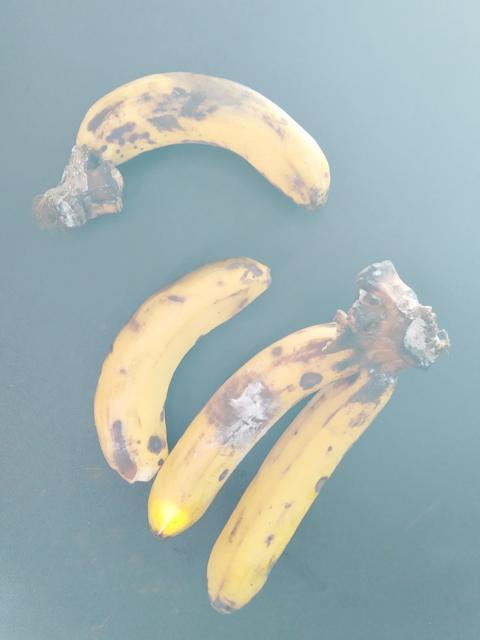overripe: (202, 378, 396, 629), (144, 324, 335, 541), (80, 259, 265, 479), (74, 49, 329, 207)
rotten: (186, 361, 299, 475)
